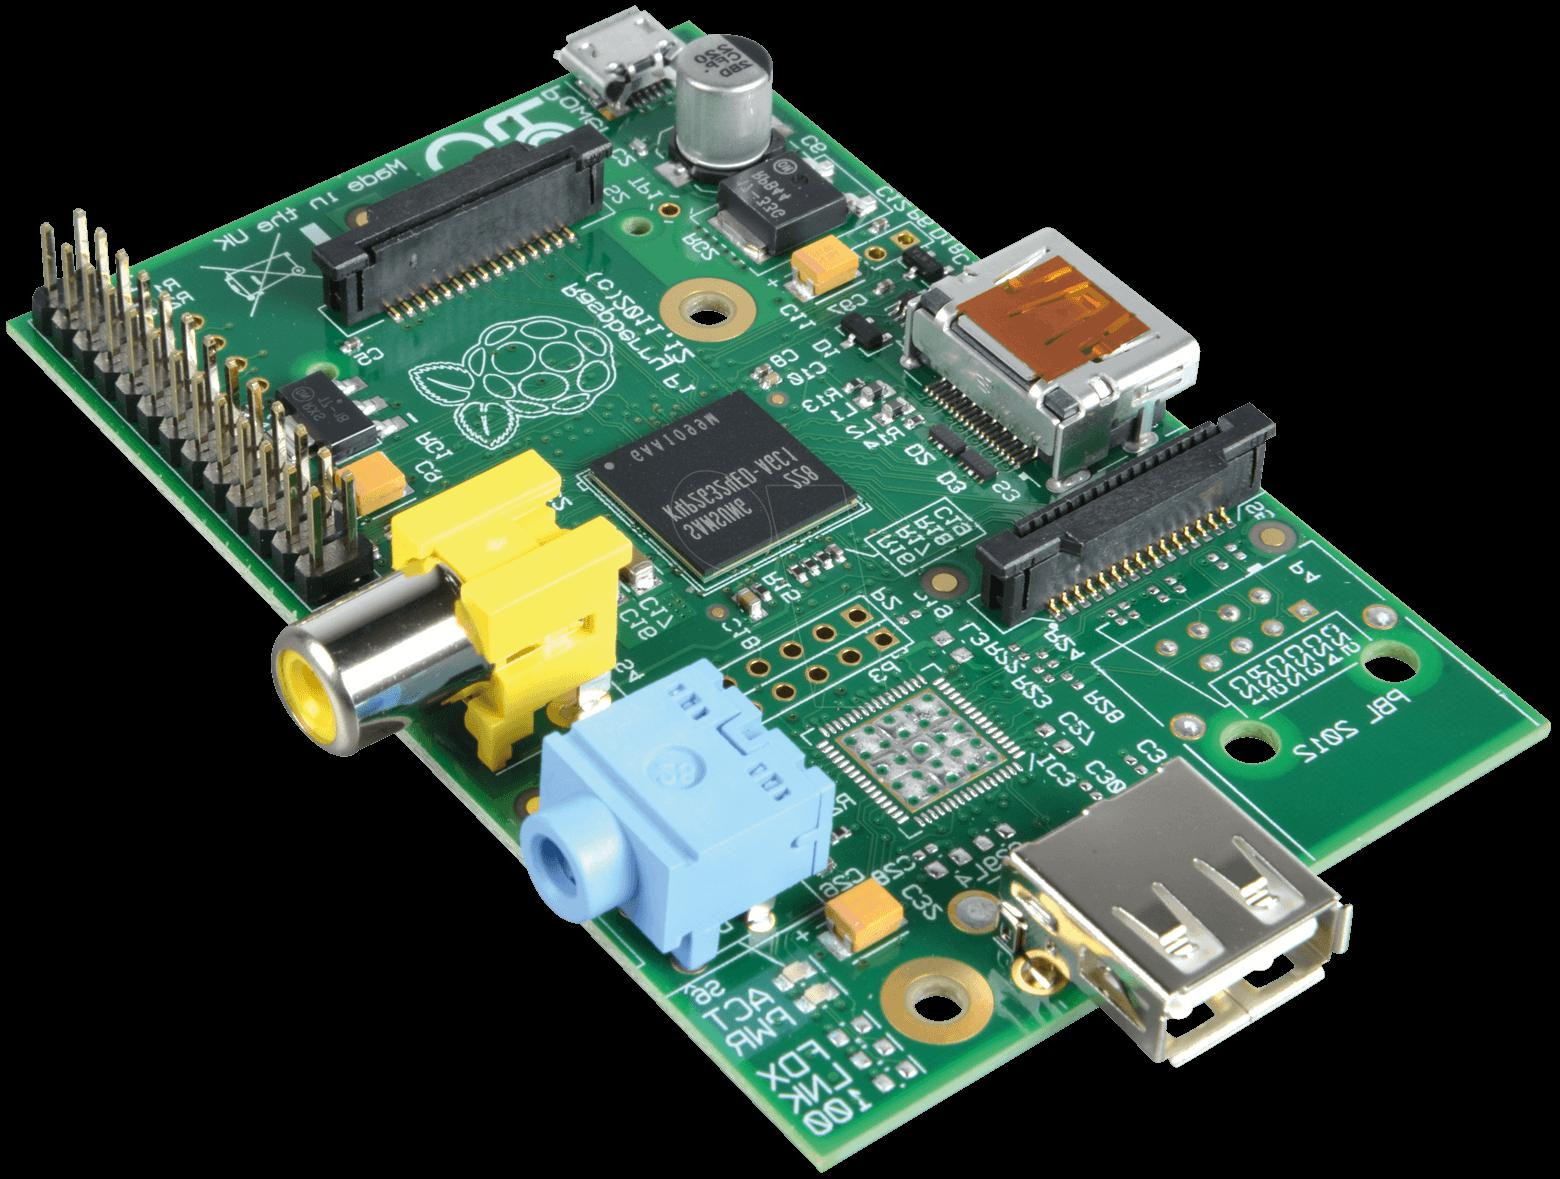audiojack: (246, 447, 631, 781)
bchi: (592, 386, 869, 573)
gpio: (27, 214, 376, 516)
usb: (1004, 757, 1352, 1060)
